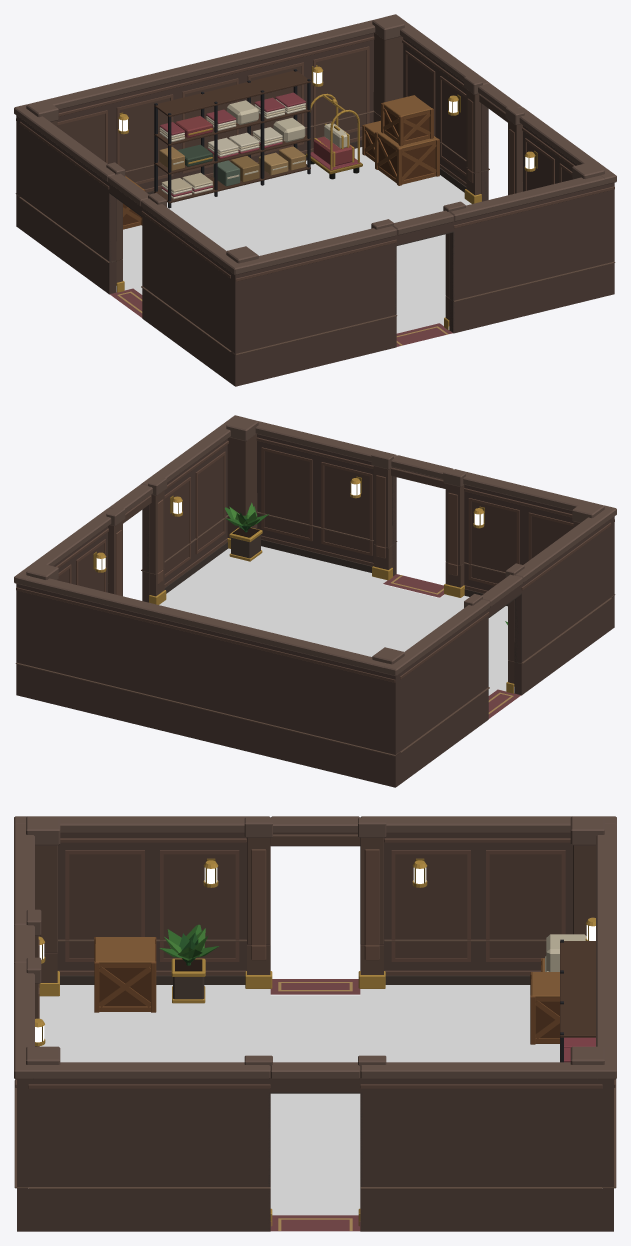
The model's file is storage.glb.
The picture shows the model from 3 angles, top to bottom: view 1: azimuth 30°, elevation 25°; view 2: azimuth 150°, elevation 25°; view 3: azimuth 270°, elevation 25°; orthographic projection. The views are drawn at different scales.
Parts seen in each view (by area): view 1: static, W_north_0_up, floor, W_south_0_up, W_south_1_up, W_west_0_up, W_west_1_up, W_east_0_up, W_east_1_up; view 2: W_north_0_up, static, floor, W_south_1_up, W_south_0_up, W_west_0_up, W_west_1_up, W_east_1_up, W_east_0_up; view 3: static, floor, W_east_0_up, W_east_1_up, W_west_0_up, W_west_1_up, W_north_0_up, W_south_0_up, W_south_1_up.
Boxes of the visible parts, x1=… form: static: x1=15, y1=69, x2=615, y2=386; W_north_0_up: x1=14, y1=15, x2=404, y2=196; floor: x1=110, y1=147, x2=471, y2=346; W_south_0_up: x1=226, y1=210, x2=453, y2=353; W_south_1_up: x1=443, y1=162, x2=616, y2=300; W_west_0_up: x1=14, y1=104, x2=148, y2=262; W_west_1_up: x1=141, y1=193, x2=246, y2=350; W_east_0_up: x1=385, y1=14, x2=522, y2=173; W_east_1_up: x1=505, y1=105, x2=616, y2=195; W_north_0_up: x1=14, y1=563, x2=404, y2=754; static: x1=15, y1=493, x2=615, y2=787; floor: x1=159, y1=546, x2=520, y2=718; W_south_1_up: x1=226, y1=416, x2=396, y2=547; W_south_0_up: x1=391, y1=455, x2=616, y2=597; W_west_0_up: x1=384, y1=574, x2=522, y2=751; W_west_1_up: x1=505, y1=505, x2=616, y2=662; W_east_1_up: x1=141, y1=415, x2=245, y2=574; W_east_0_up: x1=14, y1=484, x2=152, y2=596; static: x1=14, y1=924, x2=616, y2=1231; floor: x1=39, y1=979, x2=559, y2=1231; W_east_0_up: x1=270, y1=1055, x2=616, y2=1186; W_east_1_up: x1=14, y1=1055, x2=272, y2=1186; W_west_0_up: x1=270, y1=816, x2=616, y2=945; W_west_1_up: x1=14, y1=816, x2=272, y2=945; W_north_0_up: x1=570, y1=816, x2=616, y2=1186; W_south_0_up: x1=14, y1=816, x2=60, y2=987; W_south_1_up: x1=14, y1=957, x2=60, y2=1186.
Bounding box in the file's own units: 8.08 × 2.48 × 8.08.
